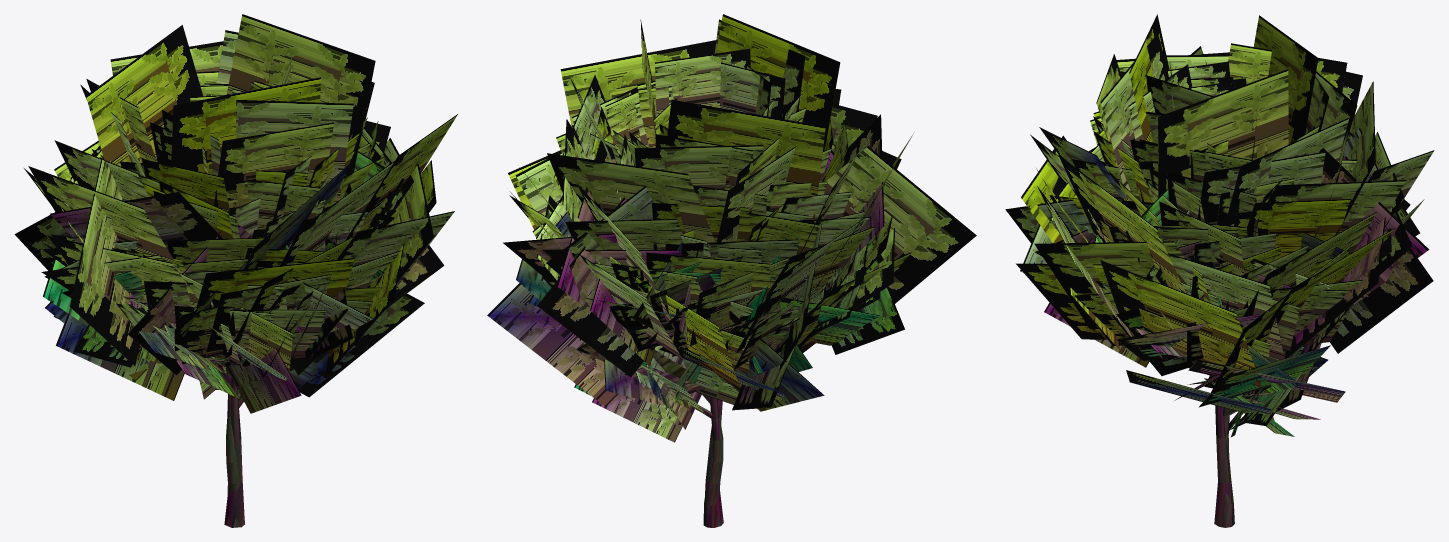
The model's file is tree-hornbeam.glb.
3 views of the same model, side by side, from view 1: azimuth 30°, elevation 25°; view 2: azimuth 150°, elevation 25°; view 3: azimuth 270°, elevation 25° (orthographic).
Visible parts, largest first — view 1: lo-leaf, hi-leaf, lo-bark, hi-bark; view 2: lo-leaf, hi-leaf, hi-bark, lo-bark; view 3: lo-leaf, hi-leaf, lo-bark, hi-bark.
Part boxes in pixels (bbox=[...]): lo-leaf: bbox=[14, 14, 457, 413]; hi-leaf: bbox=[44, 56, 404, 399]; lo-bark: bbox=[224, 375, 244, 527]; hi-bark: bbox=[217, 363, 244, 527]; lo-leaf: bbox=[487, 14, 976, 411]; hi-leaf: bbox=[532, 48, 904, 442]; hi-bark: bbox=[698, 397, 723, 527]; lo-bark: bbox=[702, 394, 723, 527]; lo-leaf: bbox=[1005, 14, 1434, 420]; hi-leaf: bbox=[1035, 61, 1419, 437]; lo-bark: bbox=[1214, 405, 1231, 527]; hi-bark: bbox=[1214, 398, 1255, 527].
Size of the model in its own units: 10.26 by 11.17 by 9.18.
Materials: 2 (2 with a texture image).
